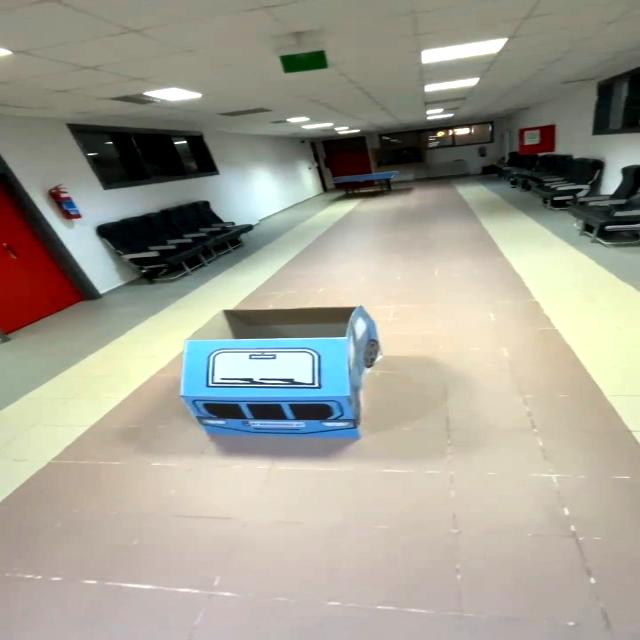blue_car: (164, 298, 415, 459)
